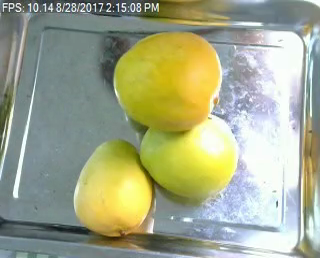Mango: (108, 29, 221, 134), (136, 108, 237, 198), (72, 138, 150, 236)
